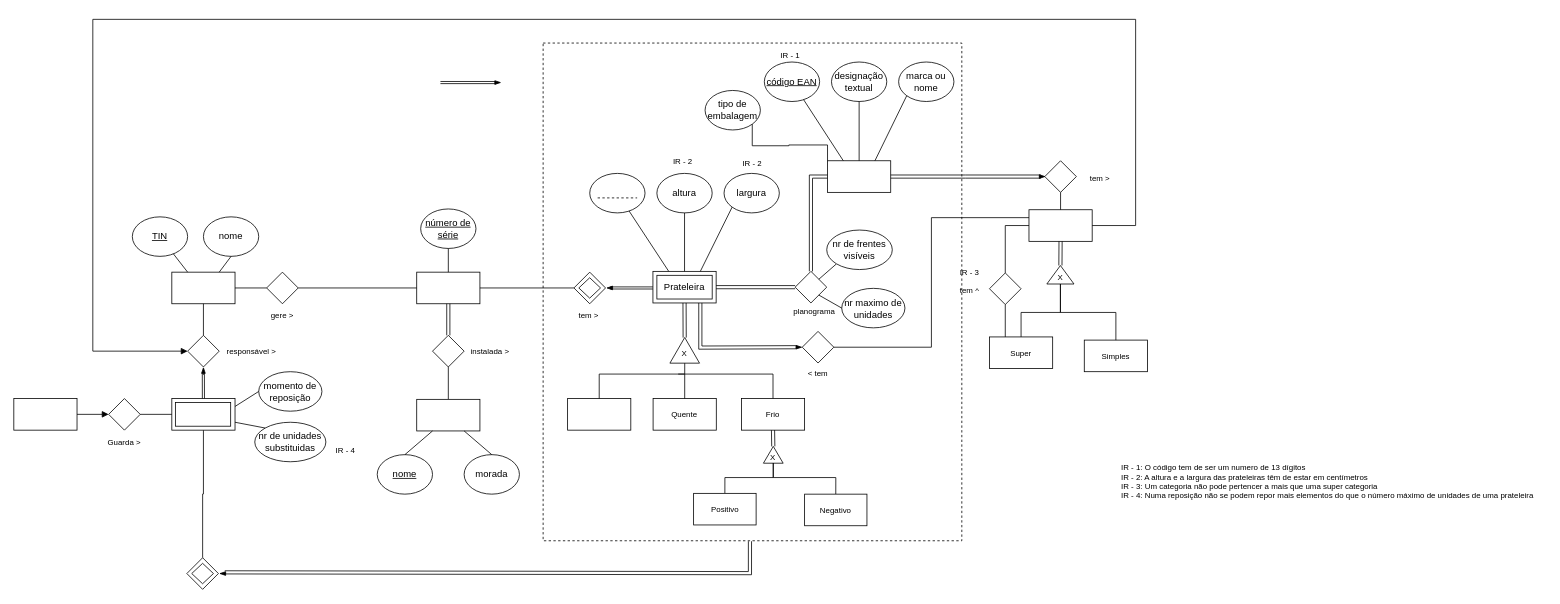
The diagram is 1560 pixels wide and 604 high, and some of its shapes have lost their labels. Here are the shapes that lost their labels. From the top down, the box of each, then its label:
(589, 173, 645, 213): número
(827, 160, 891, 192): Produto
(1028, 209, 1092, 241): Categoria
(171, 271, 235, 304): Retalhista
(416, 271, 480, 304): IVM
(13, 398, 77, 430): Histórico
(171, 398, 235, 430): Reposição
(416, 399, 480, 431): Ponto de Retalho
(567, 398, 631, 430): Temperatura ambiente
